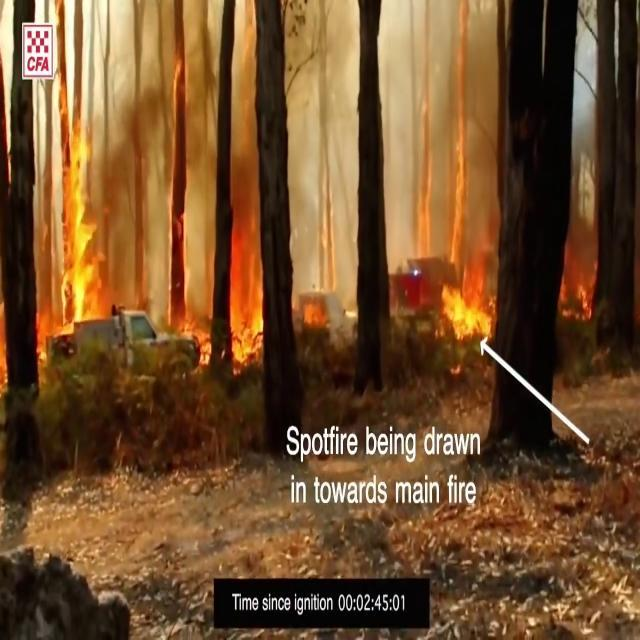Fire: (26, 96, 124, 362), (413, 81, 500, 338), (152, 230, 264, 380)
Smoke: (100, 0, 265, 265)
